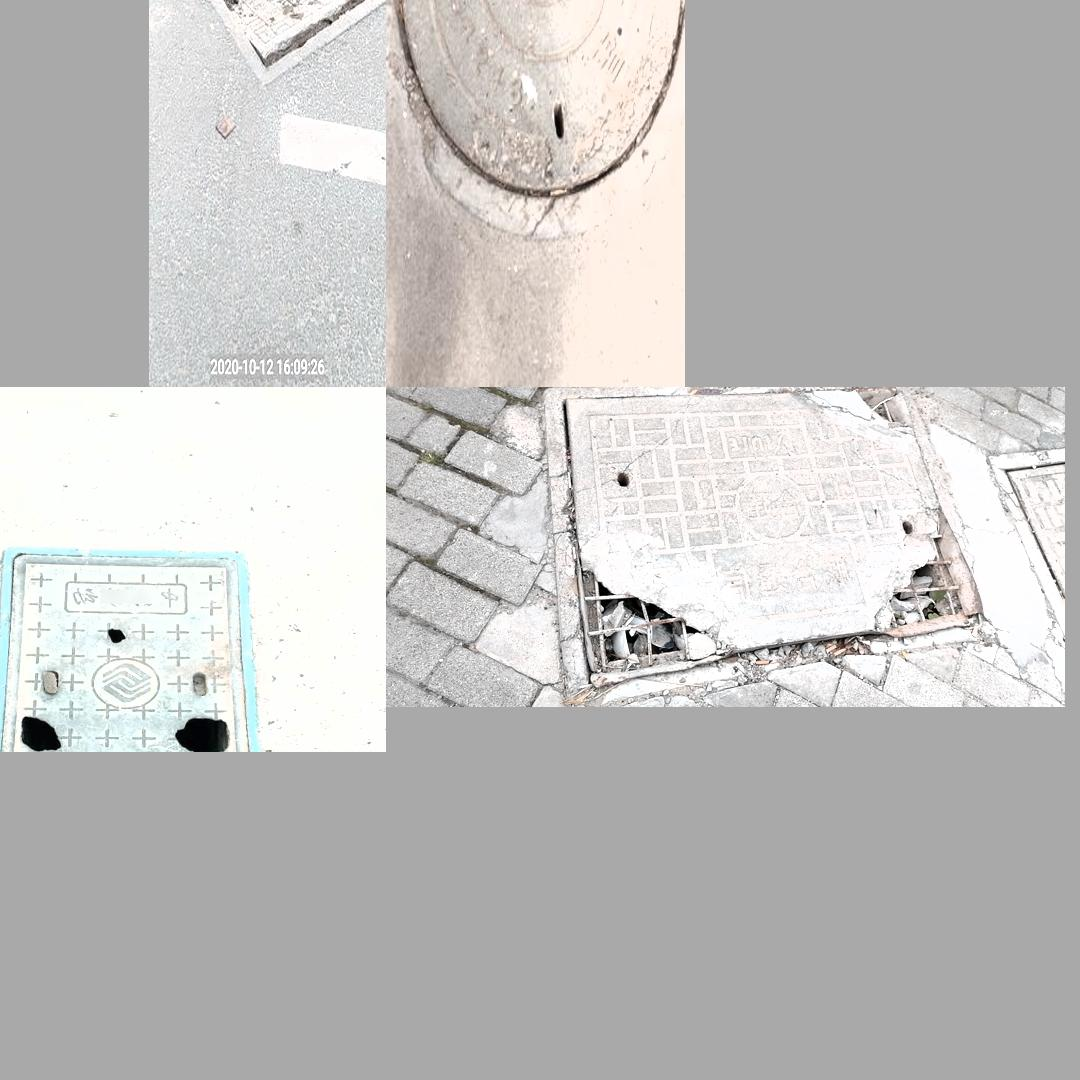broke: (567, 389, 967, 682), (390, 0, 682, 233), (0, 546, 259, 751), (164, 0, 384, 88)
